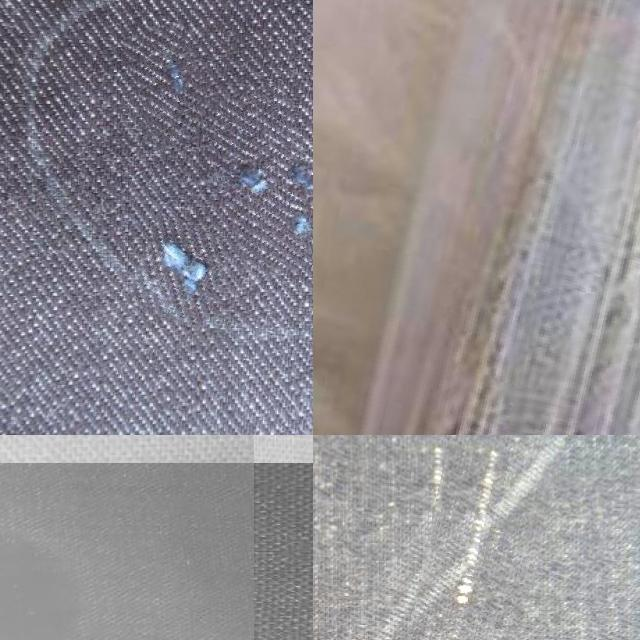stains: (313, 0, 640, 435), (358, 435, 534, 640), (206, 85, 313, 277), (128, 22, 210, 149), (130, 218, 226, 326)
